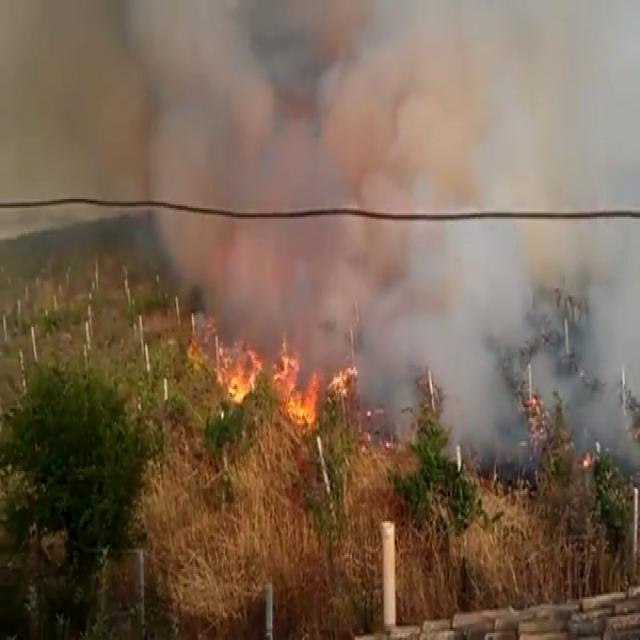Fire: (194, 314, 346, 434)
Smoke: (2, 1, 640, 460)
